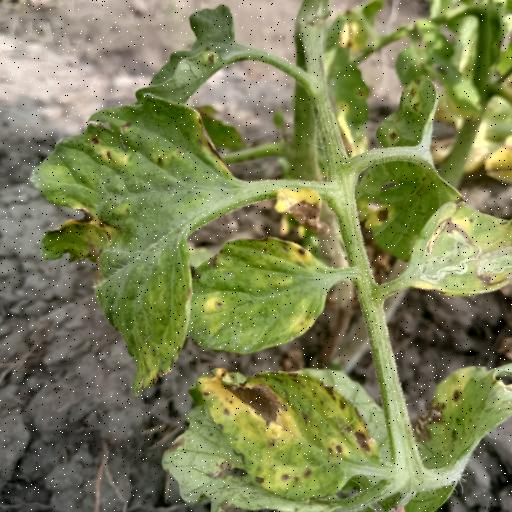Tomato_Brown_Spots: (35, 90, 247, 388), (196, 360, 380, 503), (165, 232, 340, 356)
